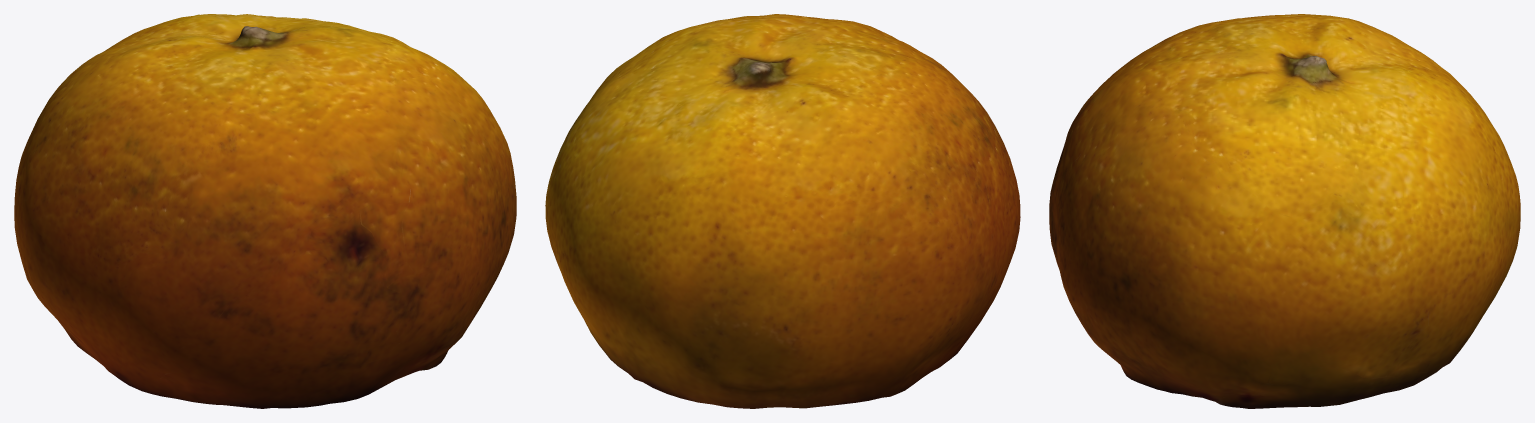
File: fresh_tangerine.glb
3 views of the same model, side by side, from view 1: azimuth 30°, elevation 25°; view 2: azimuth 150°, elevation 25°; view 3: azimuth 270°, elevation 25° (orthographic). The views are drawn at different scales.
Visible parts, largest first — view 1: nodes[0]; view 2: nodes[0]; view 3: nodes[0].
Part boxes in pixels (box(x1,y1,x2,y2)): nodes[0]: box(14, 14, 516, 408); nodes[0]: box(545, 14, 1020, 408); nodes[0]: box(1049, 14, 1520, 408).
Bounding box in the file's own units: 0.4346 × 0.2784 × 0.4283.
1 material, 1 textured.
